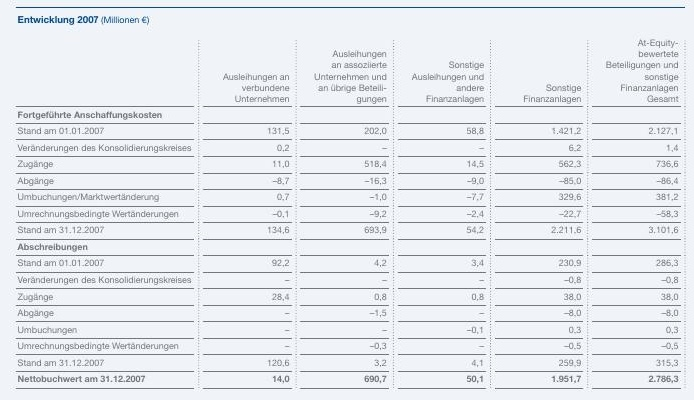table: (0, 0, 694, 400)
